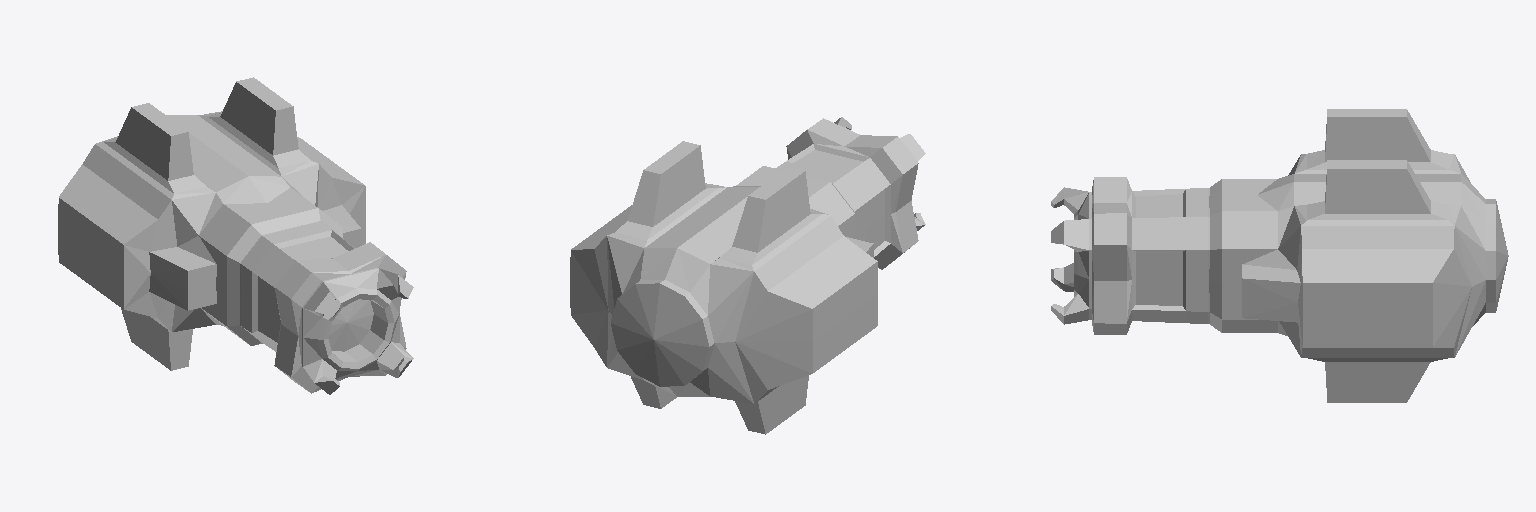
File: laserMedium.obj
3 views of the same model, side by side, from view 1: azimuth 30°, elevation 25°; view 2: azimuth 150°, elevation 25°; view 3: azimuth 270°, elevation 25° (orthographic).
Parts seen in each view (by area): view 1: laser_Cylinder.002; view 2: laser_Cylinder.002; view 3: laser_Cylinder.002.
Part boxes in pixels (x1,y1,x2,y2): laser_Cylinder.002: (58,77,413,394); laser_Cylinder.002: (570,117,925,434); laser_Cylinder.002: (1051,109,1508,402).
Bounding box in the file's own units: 0.7647 × 0.7078 × 1.25.